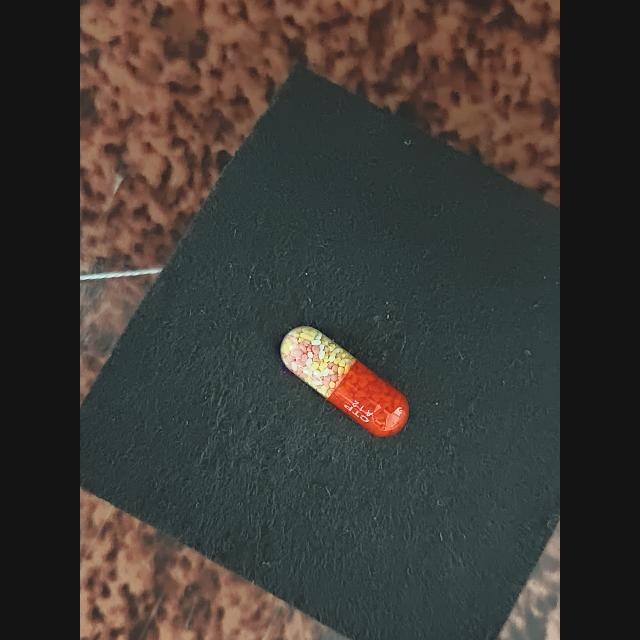Intact Capsule: (281, 326, 409, 437)
